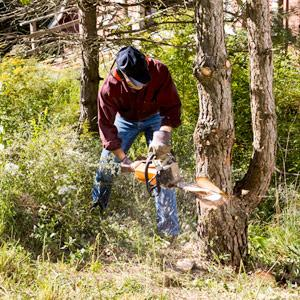person: (91, 46, 184, 249)
